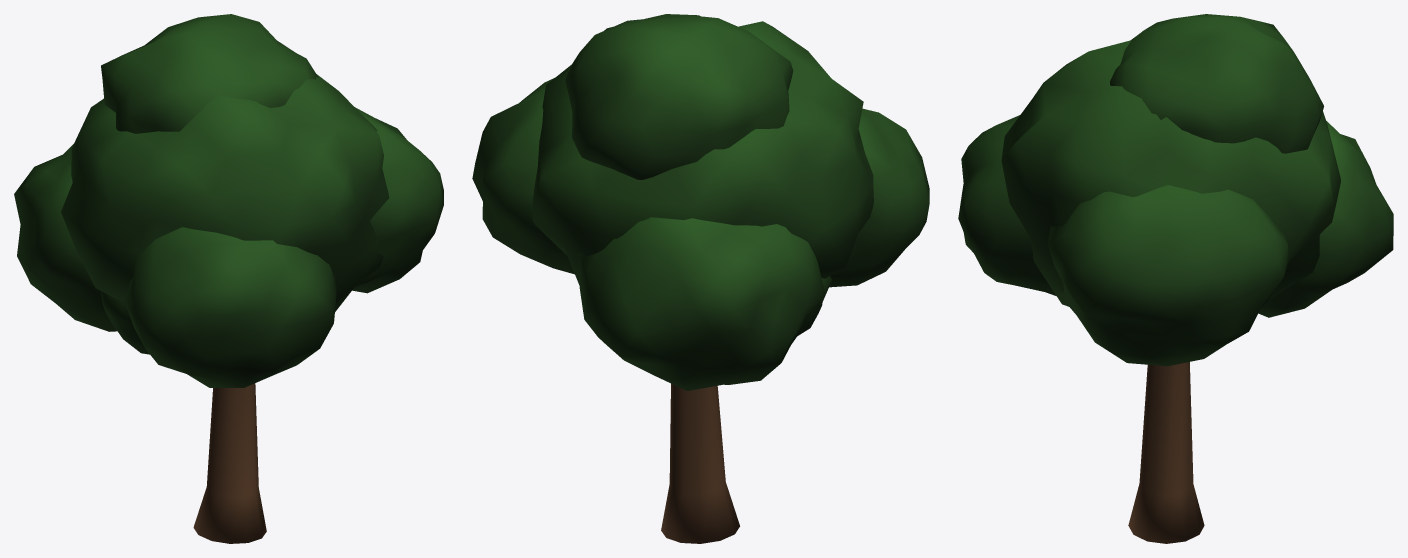
The model's file is tree_oak_a.glb.
3 views of the same model, side by side, from view 1: azimuth 30°, elevation 25°; view 2: azimuth 150°, elevation 25°; view 3: azimuth 270°, elevation 25° (orthographic). The views are drawn at different scales.
Parts seen in each view (by area): view 1: leaves, leaves.003, leaves.004, leaves.002, trunk, leaves.001, leaves.005; view 2: leaves, leaves.002, leaves.004, leaves.001, trunk, leaves.003; view 3: leaves, leaves.001, leaves.004, trunk, leaves.002, leaves.003.
Boxes of the visible parts, x1,y1,x2,y2 form: leaves: (61,74,389,311); leaves.003: (124,227,336,387); leaves.004: (101,14,318,133); leaves.002: (14,144,116,331); trunk: (193,383,266,543); leaves.001: (352,107,443,293); leaves.005: (101,291,149,354); leaves: (532,21,873,285); leaves.002: (578,217,825,390); leaves.004: (565,14,793,179); leaves.001: (472,78,574,274); trunk: (661,383,739,543); leaves.003: (829,108,929,287); leaves: (1001,40,1340,306); leaves.001: (1047,185,1288,366); leaves.004: (1110,14,1323,153); trunk: (1128,362,1204,543); leaves.002: (1258,121,1393,317); leaves.003: (958,115,1056,295).
Size of the model in its own units: 2.63 by 3.49 by 2.74.
